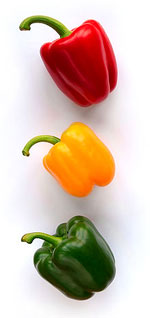capsicum: (19, 14, 119, 109), (17, 212, 118, 301), (23, 123, 116, 198)
